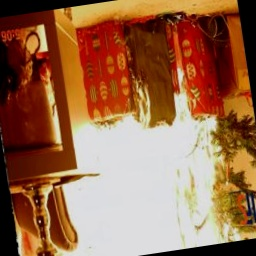fire: (31, 86, 248, 256)
